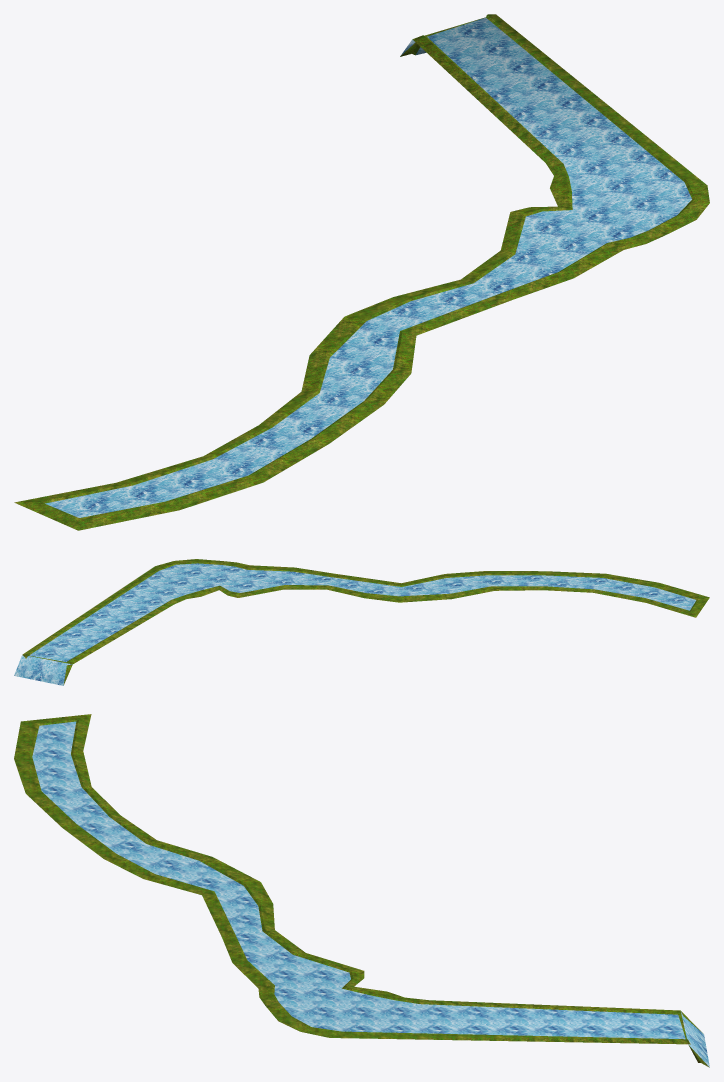
File: waterpath.FBX
3 views of the same model, one above another, from view 1: azimuth 30°, elevation 25°; view 2: azimuth 150°, elevation 25°; view 3: azimuth 270°, elevation 25° (orthographic). The views are drawn at different scales.
Visible parts, largest first — view 1: waterpath; view 2: waterpath; view 3: waterpath.
Part boxes in pixels (x1,y1,x2,y2): waterpath: [14, 14, 709, 530]; waterpath: [14, 559, 709, 685]; waterpath: [14, 714, 709, 1067].
Bounding box in the file's own units: 437646 × 15191 × 389098.
